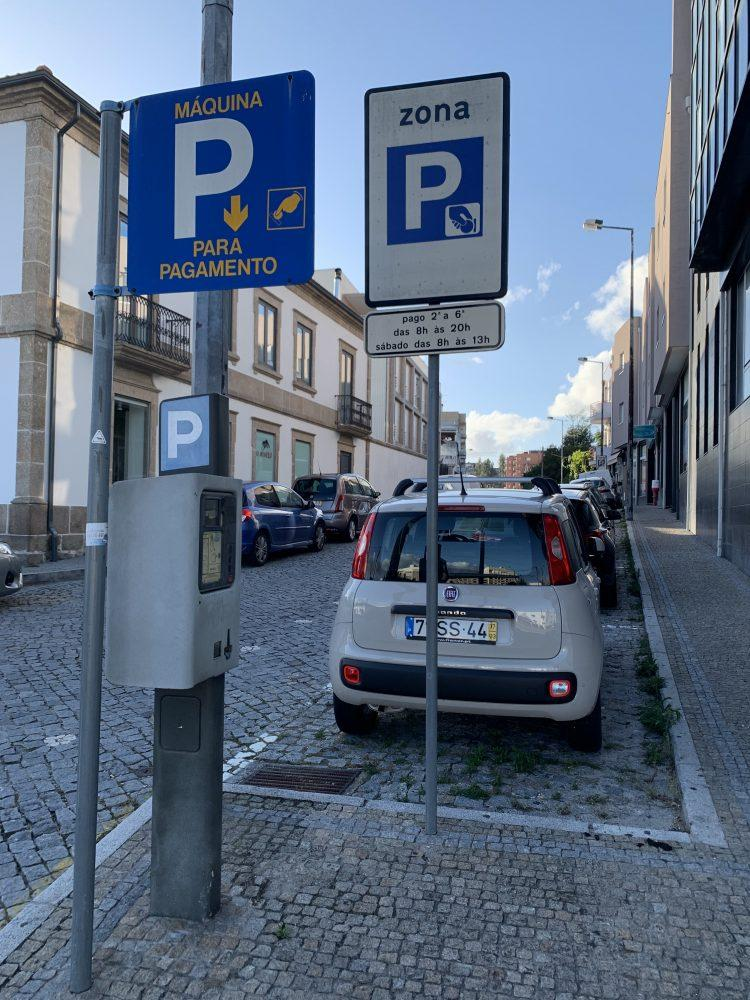zona de estacionamento autorizado: (345, 83, 520, 286)
